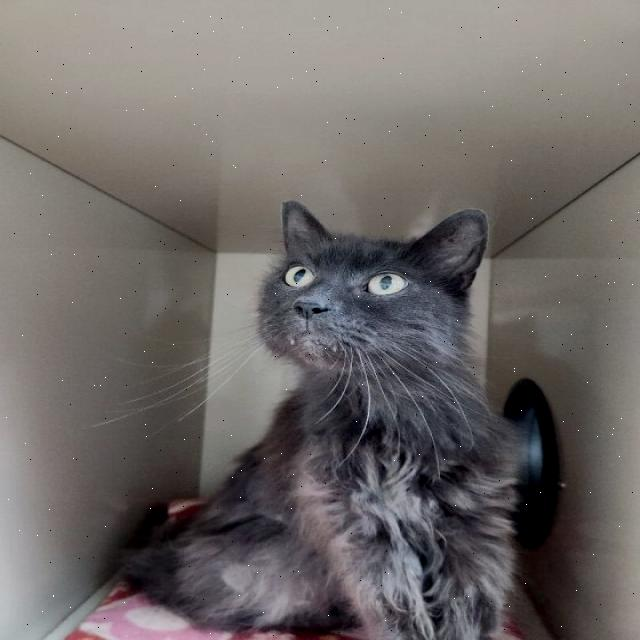domestic_long_hair_cat: (219, 182, 521, 412)
